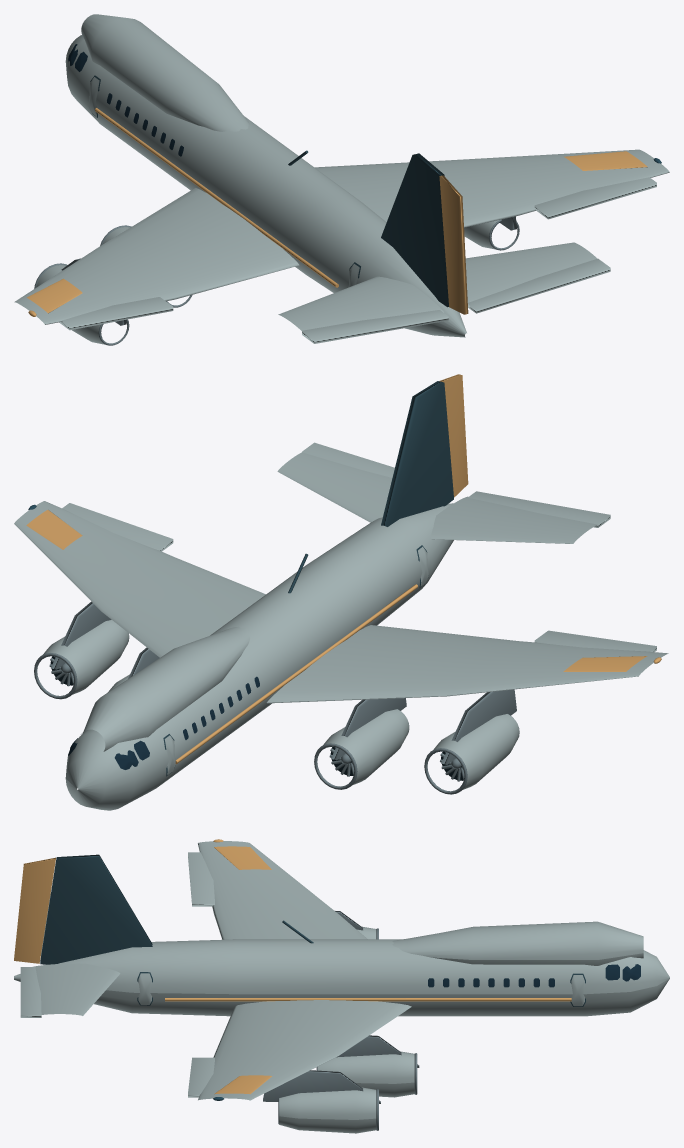
File: player-leviathan-hero-v1.glb
3 views of the same model, one above another, from view 1: azimuth 30°, elevation 25°; view 2: azimuth 150°, elevation 25°; view 3: azimuth 270°, elevation 25° (orthographic). The views are drawn at different scales.
Parts seen in each view (by area): view 1: hull, trim, accent, rudder, elevator-right, elevator-left, aileron-right, aileron-left, metal, cabin; view 2: hull, trim, metal, accent, rudder, elevator-left, aileron-right, aileron-left, elevator-right, cabin; view 3: hull, trim, accent, rudder, metal, aileron-left, cabin, elevator-right, aileron-right.
Boxes of the visible parts, <box> form: hull: <box>14,14,669,344</box>; trim: <box>90,75,448,307</box>; accent: <box>27,108,647,316</box>; rudder: <box>439,175,468,314</box>; elevator-right: <box>468,258,610,313</box>; elevator-left: <box>302,310,448,343</box>; aileron-right: <box>534,177,656,219</box>; aileron-left: <box>59,297,173,330</box>; metal: <box>34,216,519,345</box>; cabin: <box>68,44,183,156</box>; hull: <box>14,452,668,810</box>; trim: <box>163,381,453,776</box>; metal: <box>34,601,519,794</box>; accent: <box>26,510,661,763</box>; rudder: <box>439,374,468,497</box>; elevator-left: <box>468,491,610,527</box>; aileron-right: <box>62,503,173,551</box>; aileron-left: <box>534,630,656,651</box>; elevator-right: <box>302,442,394,477</box>; cabin: <box>68,676,259,769</box>; hull: <box>14,841,669,1133</box>; trim: <box>40,854,585,1006</box>; accent: <box>165,839,571,1094</box>; rudder: <box>14,857,55,963</box>; metal: <box>263,911,419,1130</box>; aileron-left: <box>188,852,214,906</box>; cabin: <box>428,964,640,987</box>; elevator-right: <box>20,967,41,1017</box>; aileron-right: <box>188,1057,214,1097</box>.
Size of the model in its own units: 65.56 by 22.96 by 70.
